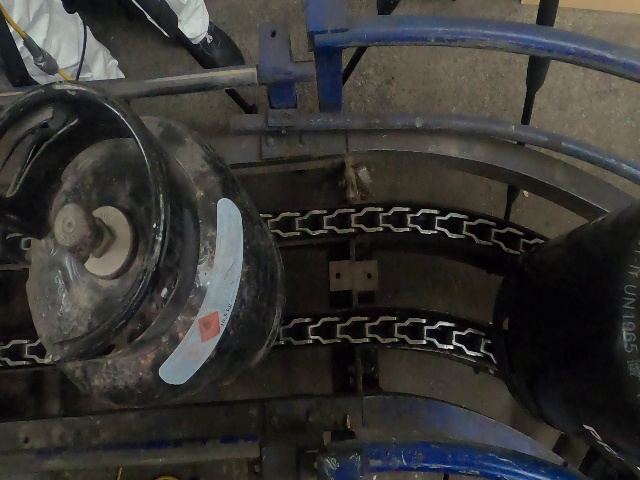gas_bottle: (0, 3, 635, 480)
